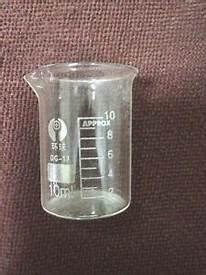Beaker: (20, 60, 141, 220)
